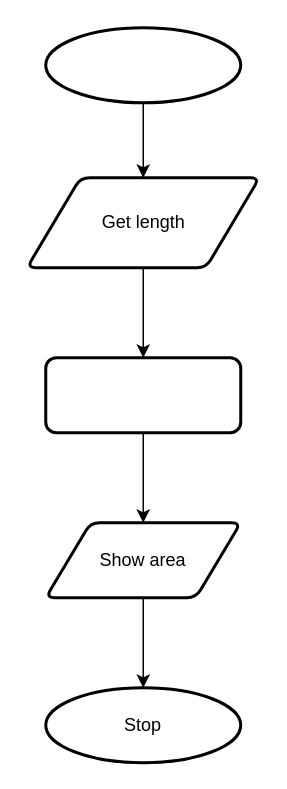
Image size: 287x789. Some labels were removed from this diagram. Here are the shapes that lost their labels. From the top down, the box of each, then its label:
(44, 26, 242, 104): Start
(44, 356, 242, 434): area=length*length
